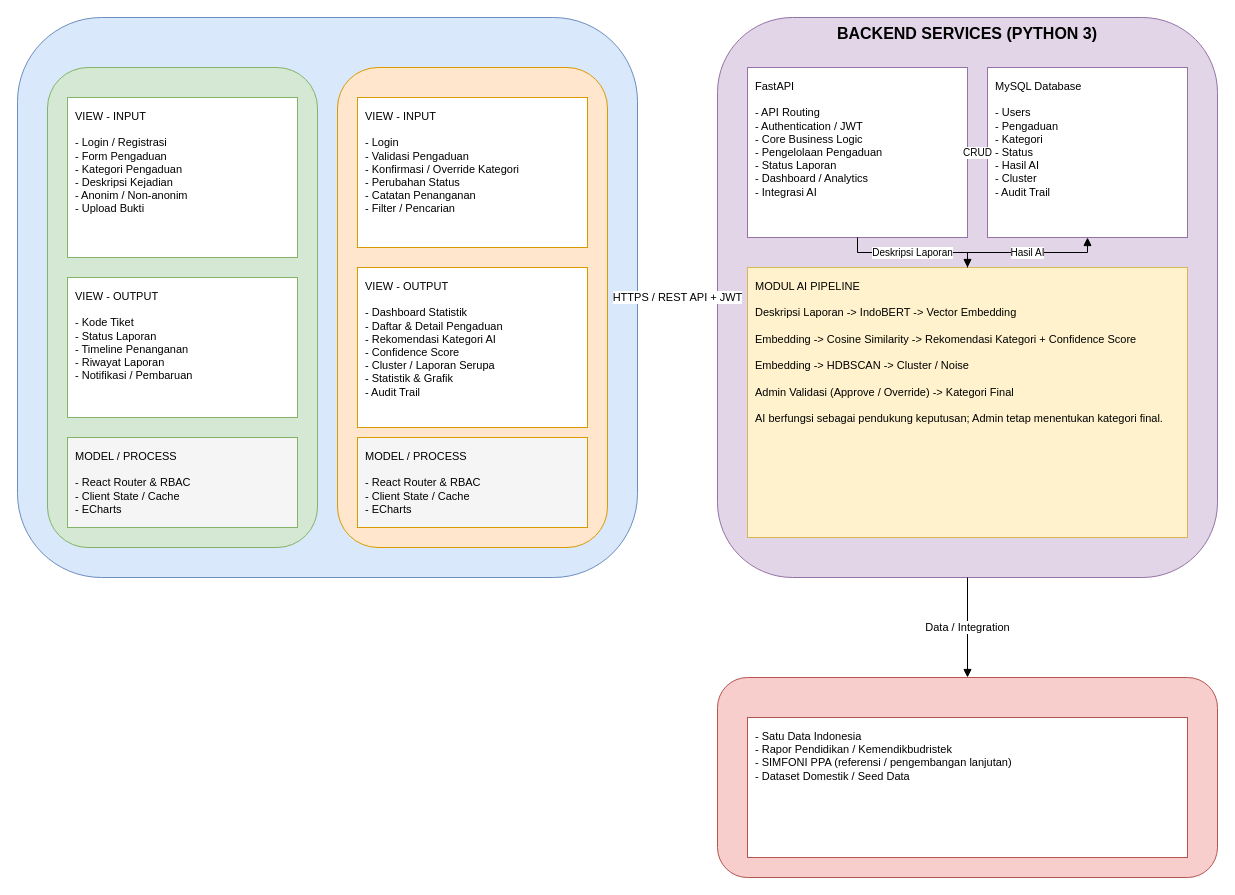
This 1235x895 diagram has some shape labels left out. Here are the shapes that lost their labels. From the top down, the box of each, then its label:
(46, 66, 318, 548): SISWA / USER
(16, 16, 638, 578): USER CLIENT (MVC)
(336, 66, 608, 548): ADMIN / GURU BK / WALI KELAS
(716, 676, 1218, 878): EXTERNAL DATA
